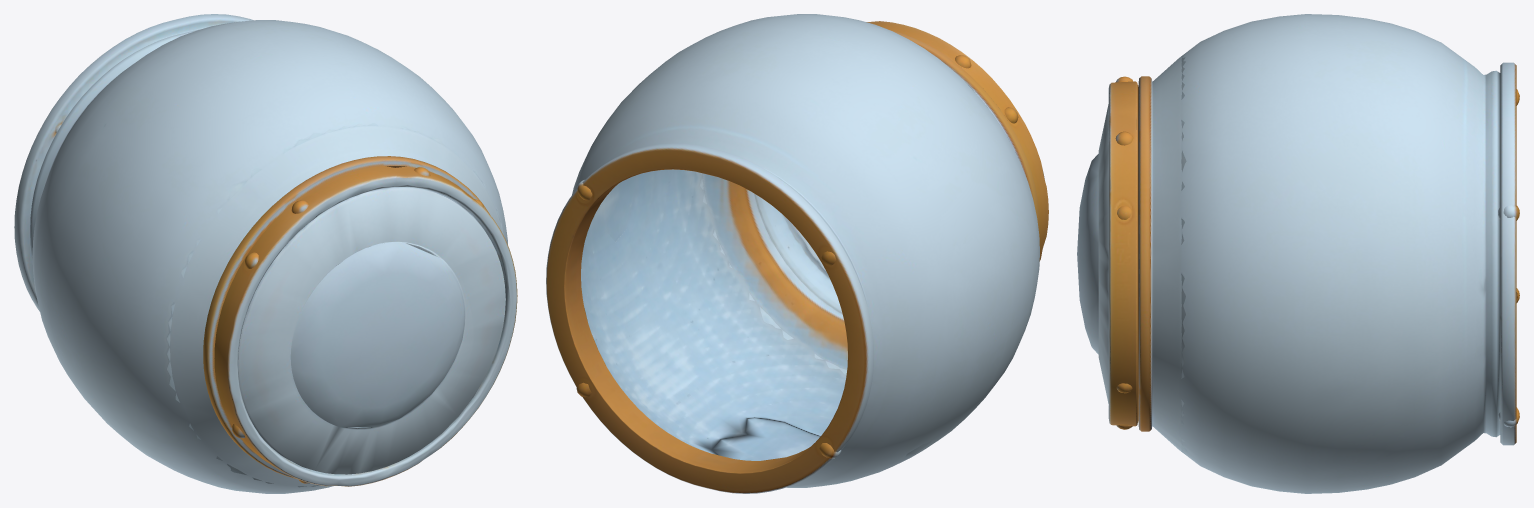
File: fishbowl.glb
3 views of the same model, side by side, from view 1: azimuth 30°, elevation 25°; view 2: azimuth 150°, elevation 25°; view 3: azimuth 270°, elevation 25° (orthographic). The views are drawn at different scales.
Parts seen in each view (by area): view 1: tripo_node_7d82a75b-3d0c-4b89-bf66-cdb496451d11; view 2: tripo_node_7d82a75b-3d0c-4b89-bf66-cdb496451d11; view 3: tripo_node_7d82a75b-3d0c-4b89-bf66-cdb496451d11.
Boxes of the visible parts, x1=… form: tripo_node_7d82a75b-3d0c-4b89-bf66-cdb496451d11: x1=14, y1=14, x2=517, y2=493; tripo_node_7d82a75b-3d0c-4b89-bf66-cdb496451d11: x1=546, y1=14, x2=1048, y2=493; tripo_node_7d82a75b-3d0c-4b89-bf66-cdb496451d11: x1=1077, y1=14, x2=1519, y2=493.
Size of the model in its own units: 0.9995 by 0.9995 by 0.9214.
Materials: 1 (1 with a texture image).
